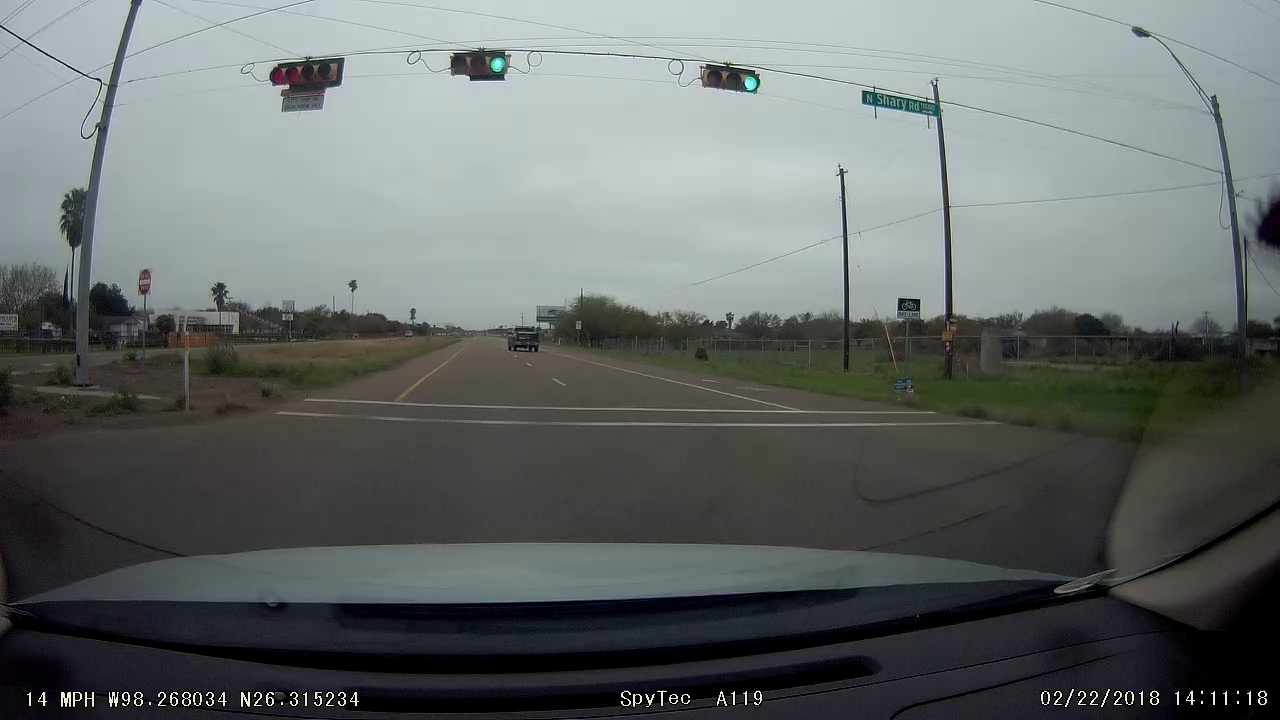blurredLine: (331, 410, 587, 438)
